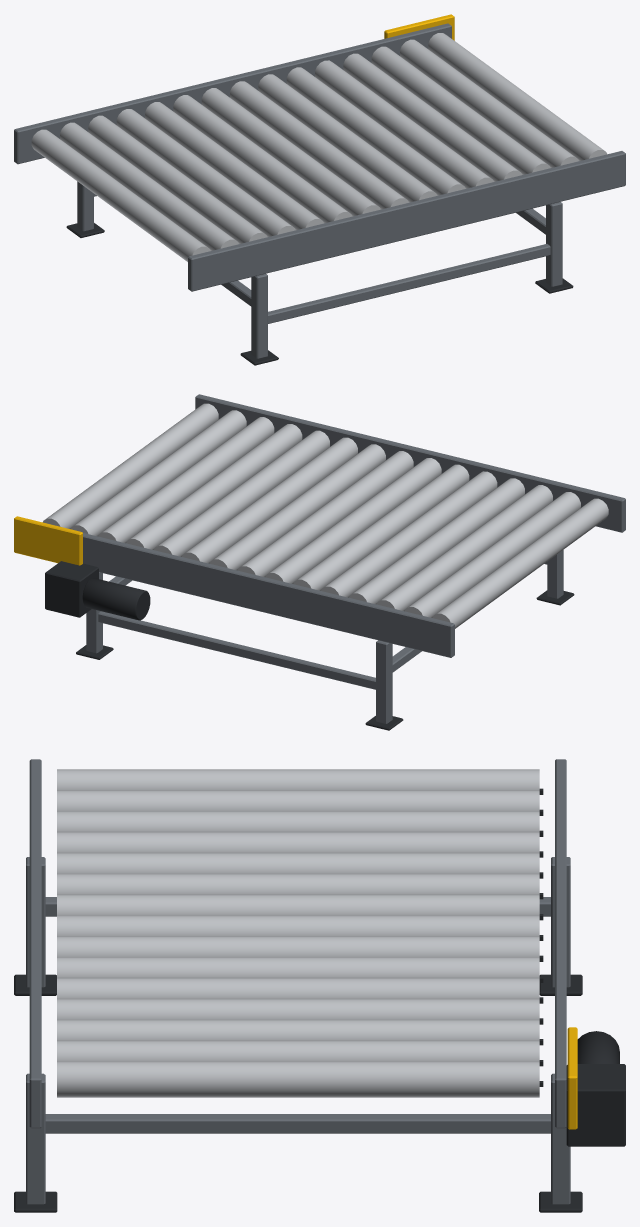
File: roller_conveyor_2m.glb
The picture shows the model from 3 angles, top to bottom: view 1: azimuth 30°, elevation 25°; view 2: azimuth 150°, elevation 25°; view 3: azimuth 270°, elevation 25°; orthographic projection. The views are drawn at different scales.
Visible parts, largest first — view 1: Conveyor_Static, Roller_00, Roller_02, Roller_12, Roller_09, Roller_05, Roller_06, Roller_08, Roller_01, Roller_10, Roller_11, Roller_13 (+4 smaller); view 2: Conveyor_Static, Roller_00, Roller_04, Roller_05, Roller_02, Roller_08, Roller_10, Roller_06, Roller_07, Roller_11, Roller_09, Roller_12 (+4 smaller); view 3: Conveyor_Static, Roller_14, Roller_03, Roller_04, Roller_10, Roller_11, Roller_05, Roller_06, Roller_12, Roller_13, Roller_00, Roller_01 (+4 smaller).
Part boxes in pixels (box(x1,y1,x2,y2)): Conveyor_Static: box(14, 14, 625, 365); Roller_00: box(31, 129, 210, 261); Roller_02: box(88, 115, 267, 243); Roller_12: box(371, 46, 550, 174); Roller_09: box(286, 67, 465, 195); Roller_05: box(173, 95, 352, 223); Roller_06: box(201, 88, 380, 216); Roller_08: box(258, 74, 437, 202); Roller_01: box(60, 122, 238, 250); Roller_10: box(315, 60, 493, 188); Roller_11: box(343, 53, 522, 181); Roller_13: box(400, 39, 578, 167); Conveyor_Static: box(14, 394, 625, 730); Roller_00: box(432, 498, 608, 628); Roller_04: box(321, 471, 497, 597); Roller_05: box(293, 464, 469, 590); Roller_02: box(376, 485, 552, 611); Roller_08: box(209, 444, 385, 570); Roller_10: box(154, 430, 329, 556); Roller_06: box(265, 458, 441, 583); Roller_07: box(237, 451, 413, 576); Roller_11: box(126, 424, 302, 549); Roller_09: box(182, 437, 357, 563); Roller_12: box(98, 417, 274, 543); Conveyor_Static: box(14, 759, 625, 1212); Roller_14: box(57, 1061, 543, 1097); Roller_03: box(57, 831, 543, 857); Roller_04: box(57, 852, 543, 878); Roller_10: box(57, 977, 543, 1003); Roller_11: box(57, 998, 543, 1024); Roller_05: box(57, 873, 543, 899); Roller_06: box(57, 894, 543, 920); Roller_12: box(57, 1019, 543, 1045); Roller_13: box(57, 1040, 543, 1066); Roller_00: box(57, 769, 543, 794); Roller_01: box(57, 790, 543, 815).
Bounding box in the file's own units: 1.95 × 0.515 × 1.55.
